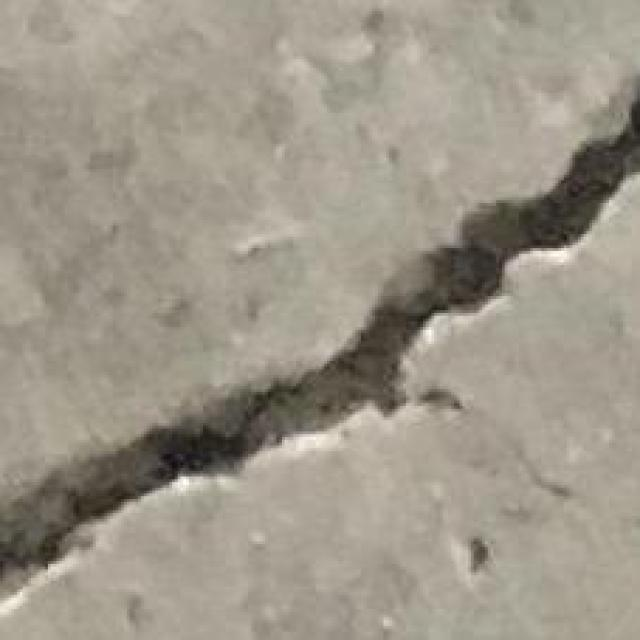diagonal crack: (0, 87, 639, 598)
